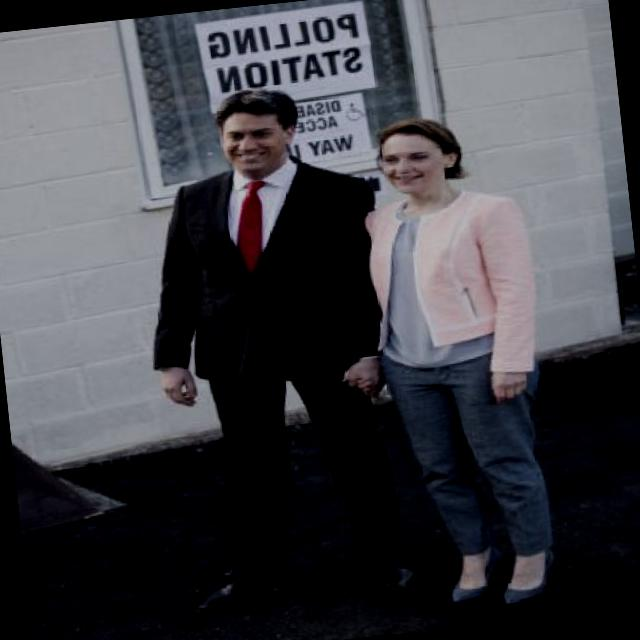Person: (114, 41, 430, 624), (317, 96, 554, 634)
